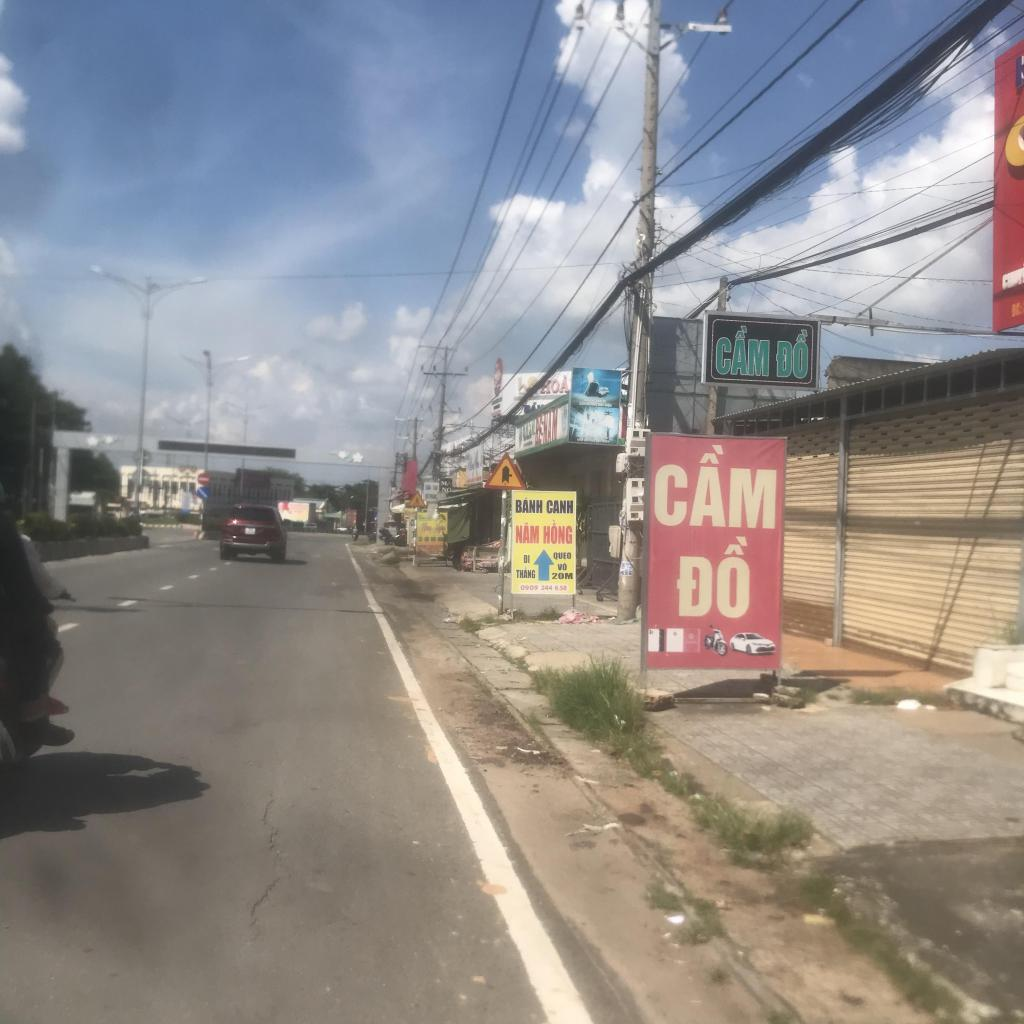cam_xe_di_nguoc_chieu: (198, 473, 210, 485)
chu_y_nguoi_di_bo_cat_ngang: (406, 490, 427, 508)
giao_nhau_voi_duong_khong_uu_tien: (483, 450, 526, 490)
huong_phai_di_vuot_chuong_ngai_vat_phai: (196, 486, 209, 500)
